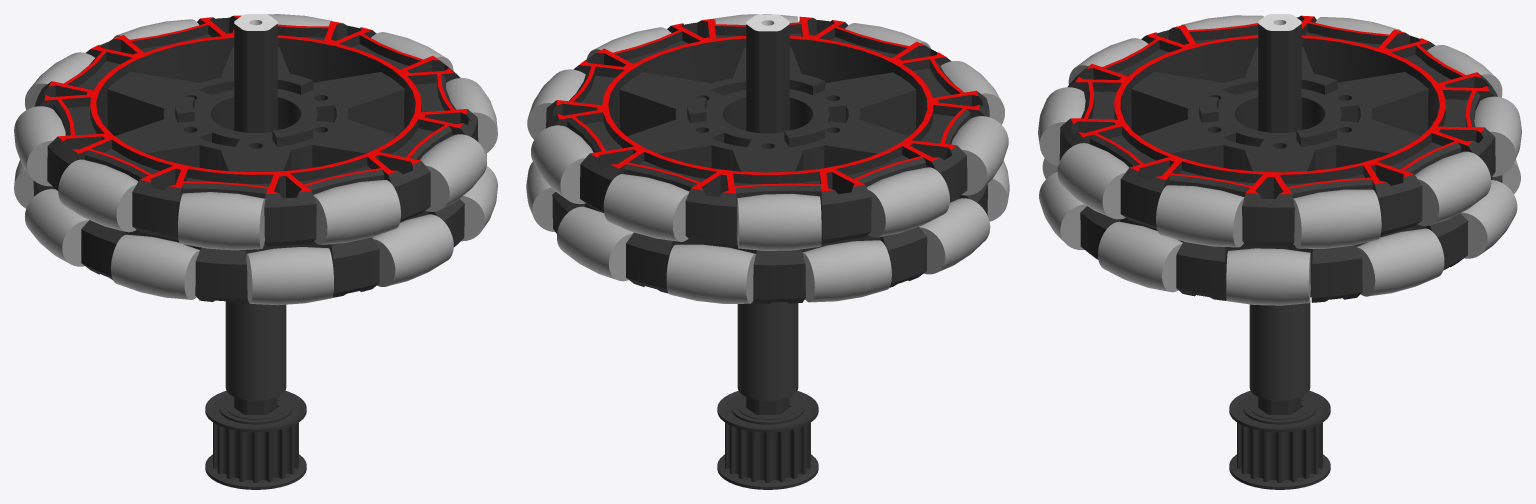
3 renders of one model, left to right at view 1: azimuth 30°, elevation 25°; view 2: azimuth 150°, elevation 25°; view 3: azimuth 270°, elevation 25°, orthographic.
Parts seen in each view (by area): view 1: 6" Omni Wheel (1.125" Bearing Bore), 18t Aluminum Pulley (HTD 5mm, 15mm Wide, 1/2" Hex Bore), 1/2" Hex Bore Custom Spacer (0.75" OD,2.5" L), 1/2" Rounded Hex (6.125" L, 13.75mm OD); view 2: 6" Omni Wheel (1.125" Bearing Bore), 18t Aluminum Pulley (HTD 5mm, 15mm Wide, 1/2" Hex Bore), 1/2" Hex Bore Custom Spacer (0.75" OD,2.5" L), 1/2" Rounded Hex (6.125" L, 13.75mm OD); view 3: 6" Omni Wheel (1.125" Bearing Bore), 18t Aluminum Pulley (HTD 5mm, 15mm Wide, 1/2" Hex Bore), 1/2" Hex Bore Custom Spacer (0.75" OD,2.5" L), 1/2" Rounded Hex (6.125" L, 13.75mm OD).
Part boxes in pixels (x1,y1,x2,y2): 6" Omni Wheel (1.125" Bearing Bore): (14,14,497,305); 18t Aluminum Pulley (HTD 5mm, 15mm Wide, 1/2" Hex Bore): (205,391,306,489); 1/2" Hex Bore Custom Spacer (0.75" OD,2.5" L): (225,299,286,400); 1/2" Rounded Hex (6.125" L, 13.75mm OD): (234,14,277,414); 6" Omni Wheel (1.125" Bearing Bore): (526,14,1009,303); 18t Aluminum Pulley (HTD 5mm, 15mm Wide, 1/2" Hex Bore): (717,391,818,489); 1/2" Hex Bore Custom Spacer (0.75" OD,2.5" L): (737,300,798,400); 1/2" Rounded Hex (6.125" L, 13.75mm OD): (746,14,789,414); 6" Omni Wheel (1.125" Bearing Bore): (1038,15,1521,305); 18t Aluminum Pulley (HTD 5mm, 15mm Wide, 1/2" Hex Bore): (1229,391,1330,489); 1/2" Hex Bore Custom Spacer (0.75" OD,2.5" L): (1249,300,1310,400); 1/2" Rounded Hex (6.125" L, 13.75mm OD): (1258,14,1301,414).
Size of the model in its own units: 0.1524 by 0.1556 by 0.1524.
